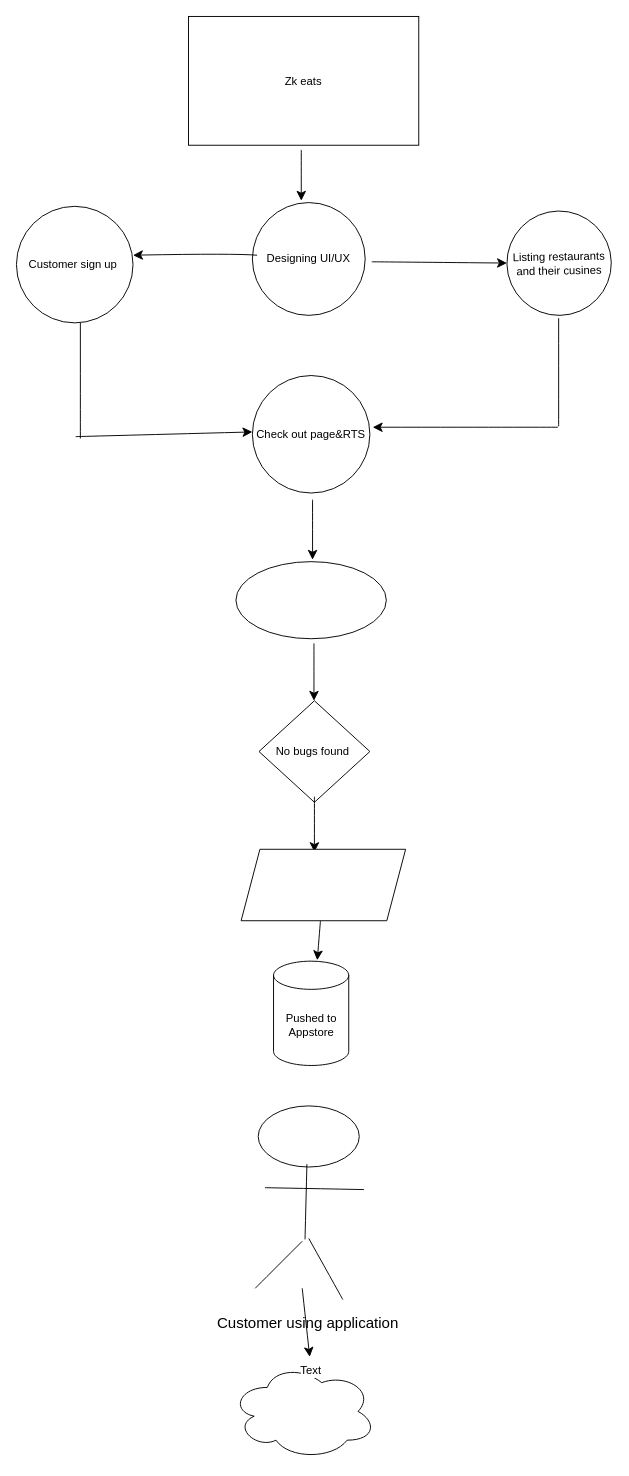
Some shapes in this 629 by 1476 pixel diagram are drawn without their labels. The shapes that lost their labels are listed below. From the top down, each one's centre as x and y in pixels, then its label:
the point at 310,600: Compiling to Apk
the point at 323,884: Writing permissions for Deployment
the point at 303,1411: Received No Feedback
